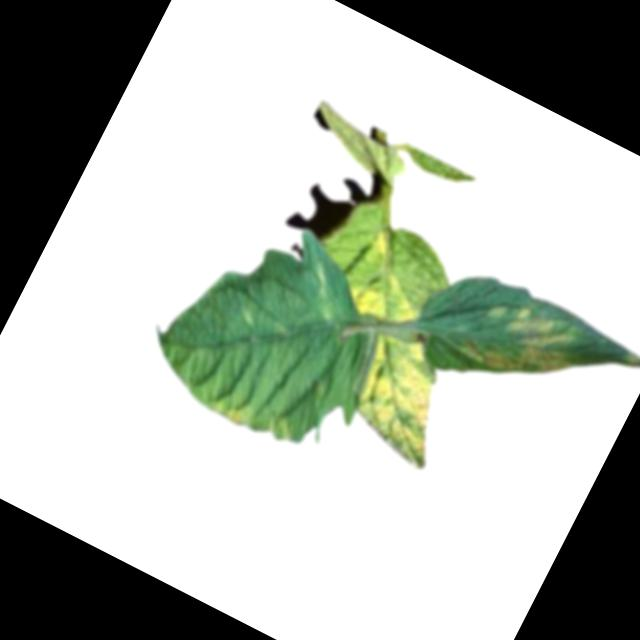Leaf_Mold: (334, 322, 477, 472), (451, 284, 591, 407), (338, 257, 435, 343), (207, 393, 257, 432), (365, 222, 400, 261)
